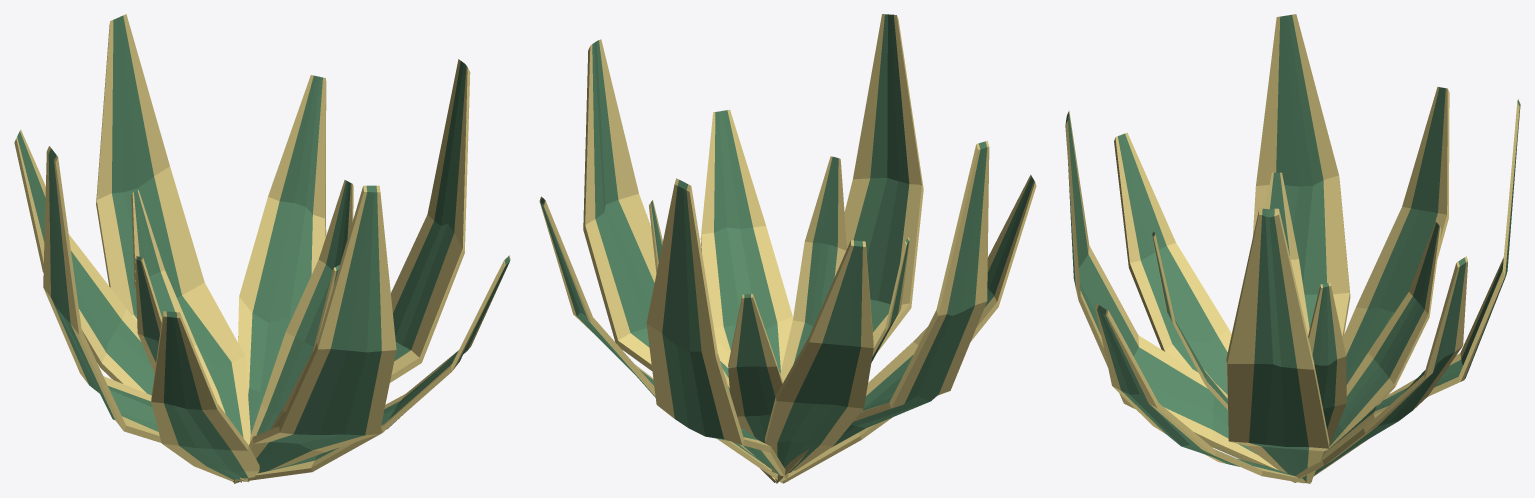
Rendered from PlanteGrasse2.fbx.
3 renders of one model, left to right at view 1: azimuth 30°, elevation 25°; view 2: azimuth 150°, elevation 25°; view 3: azimuth 270°, elevation 25°, orthographic. The views are drawn at different scales.
Visible parts, largest first — view 1: PlanteGrasse.007; view 2: PlanteGrasse.007; view 3: PlanteGrasse.007.
Boxes of the visible parts, x1,y1,x2,y2 form: PlanteGrasse.007: (14, 14, 510, 483); PlanteGrasse.007: (539, 14, 1036, 483); PlanteGrasse.007: (1065, 14, 1520, 483).
Bounding box in the file's own units: 52.5 × 47.9 × 52.22.
